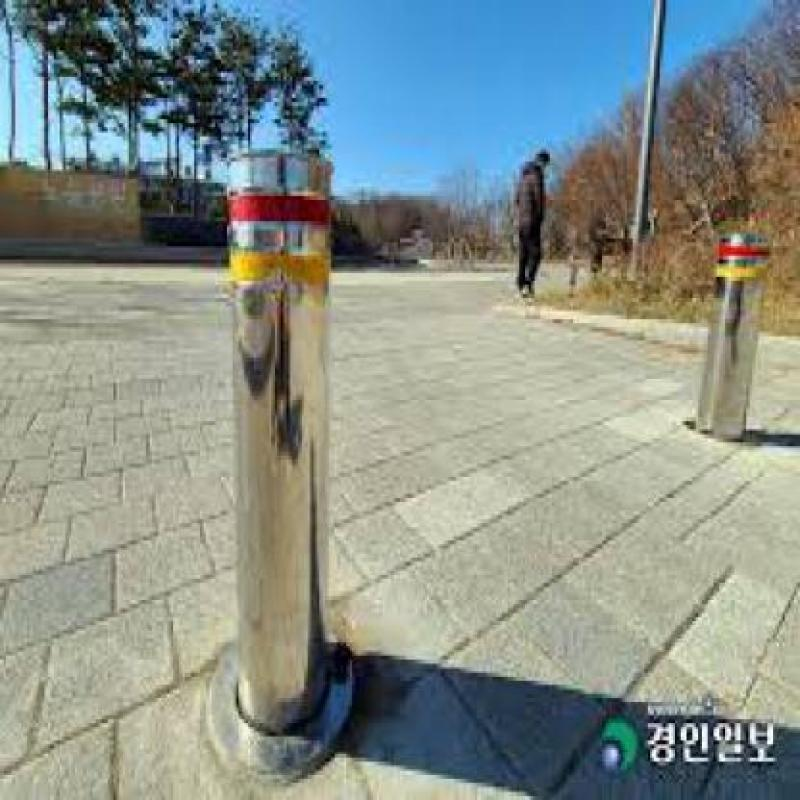bolard: (230, 154, 358, 690), (719, 200, 761, 438)
